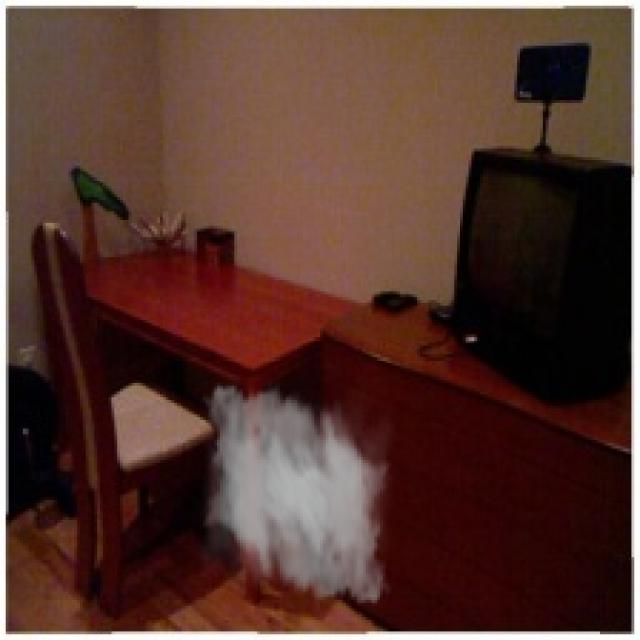smoke: (189, 374, 400, 614)
